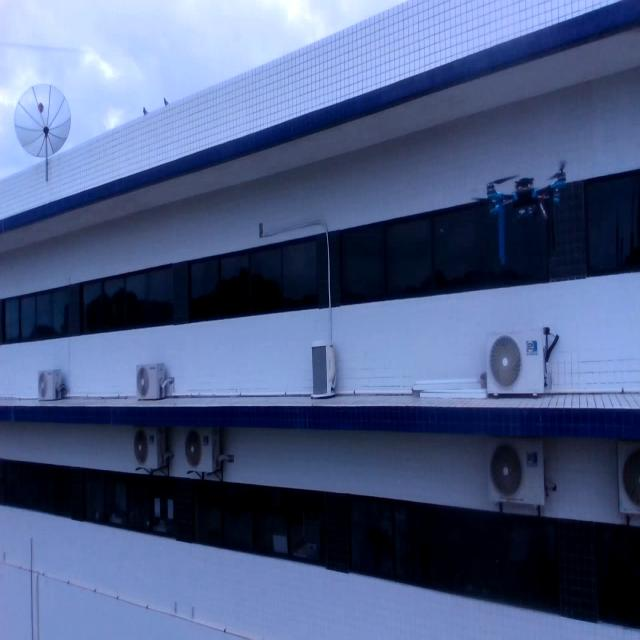-uav-: (478, 160, 576, 292)
